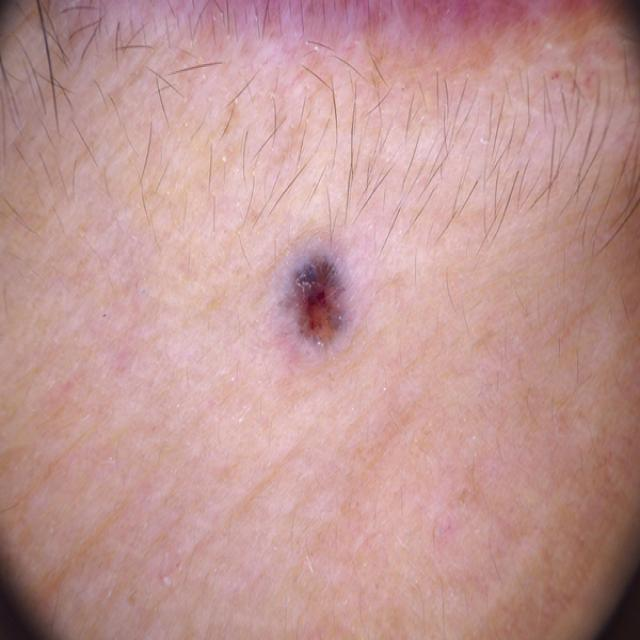Skin-Cancer Basal cell carcinoma: (106, 90, 554, 573)
